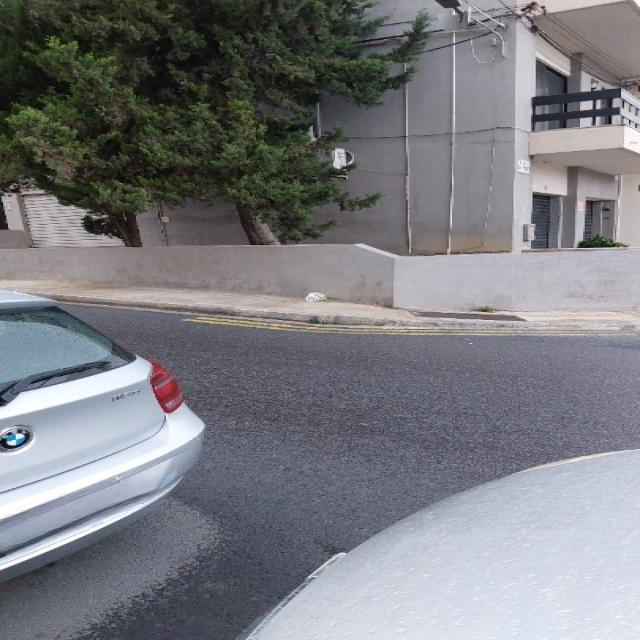Organic Waste -White Bag-: (306, 293, 328, 303)
